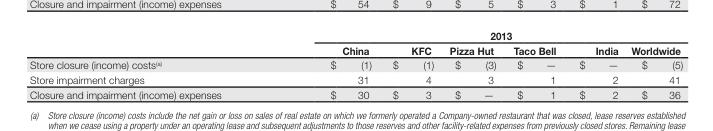table: (29, 28, 682, 100)
table column: (29, 28, 275, 100), (275, 28, 381, 100), (441, 28, 504, 100), (504, 28, 567, 100), (381, 28, 441, 100), (623, 28, 682, 100), (567, 28, 623, 100)
table column header: (29, 28, 682, 57)
table row: (29, 42, 682, 57), (29, 71, 682, 86), (29, 28, 682, 42), (29, 57, 682, 71), (29, 86, 682, 100)
table spanning cell: (275, 28, 682, 42)
